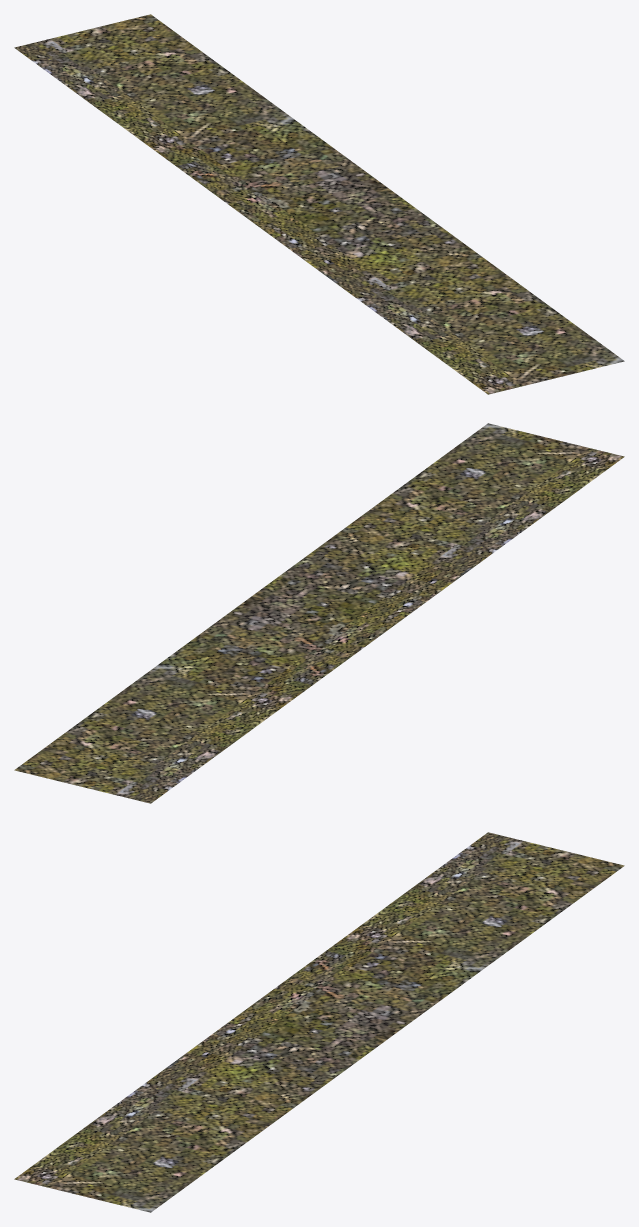
Rendered from Emb_PlanterBalc_2X8_Dirt.FBX.
3 views of the same model, one above another, from view 1: azimuth 30°, elevation 25°; view 2: azimuth 150°, elevation 25°; view 3: azimuth 330°, elevation 25° (orthographic).
Visible parts, largest first — view 1: Emb_PlanterBalc_2X8_Dirt; view 2: Emb_PlanterBalc_2X8_Dirt; view 3: Emb_PlanterBalc_2X8_Dirt.
Boxes of the visible parts, x1,y1,x2,y2 form: Emb_PlanterBalc_2X8_Dirt: [14, 14, 624, 394]; Emb_PlanterBalc_2X8_Dirt: [14, 423, 624, 803]; Emb_PlanterBalc_2X8_Dirt: [14, 832, 624, 1212].
Bounding box in the file's own units: 1.2 × 2e-15 × 7.2.
